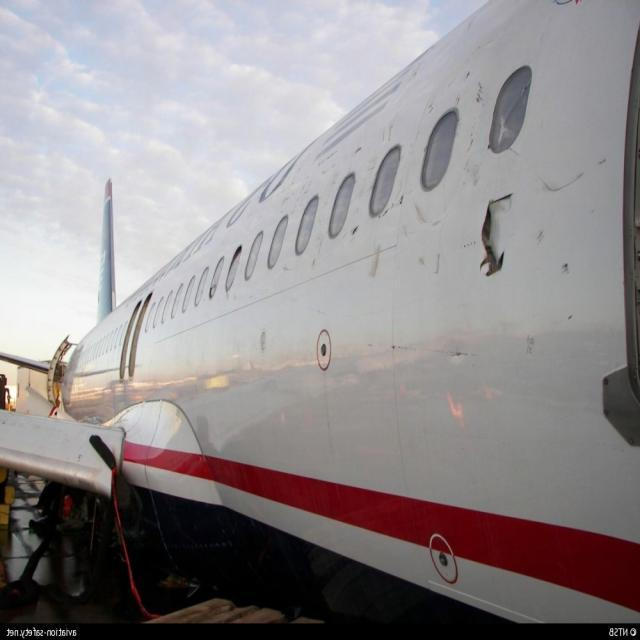crack: (474, 192, 518, 284)
